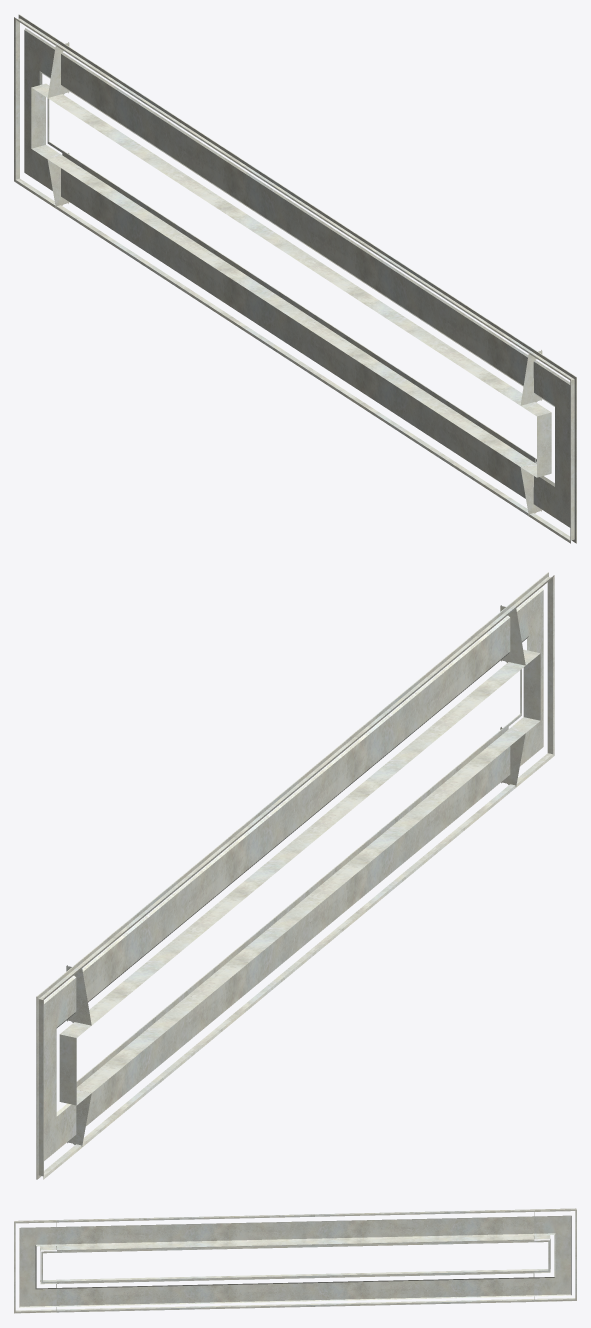
The model's file is white_marble_1539.fbx.
3 views of the same model, one above another, from view 1: azimuth 30°, elevation 25°; view 2: azimuth 150°, elevation 25°; view 3: azimuth 270°, elevation 25° (orthographic). The views are drawn at different scales.
Visible parts, largest first — view 1: white_marble_1539; view 2: white_marble_1539; view 3: white_marble_1539.
Boxes of the visible parts, x1,y1,x2,y2 form: white_marble_1539: [14, 14, 576, 543]; white_marble_1539: [36, 572, 554, 1179]; white_marble_1539: [14, 1208, 576, 1313].
Bounding box in the file's own units: 295 × 741 × 4134.
